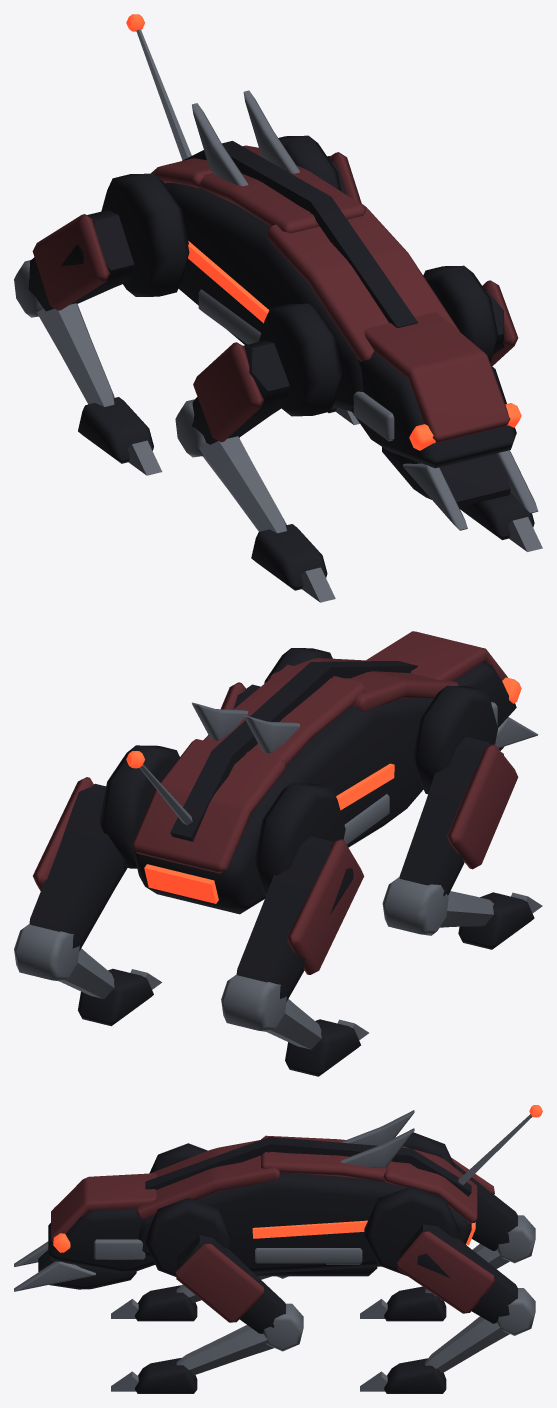
Rendered from enemy_runner.glb.
The picture shows the model from 3 angles, top to bottom: view 1: azimuth 30°, elevation 25°; view 2: azimuth 150°, elevation 25°; view 3: azimuth 270°, elevation 25°; orthographic projection. The views are drawn at different scales.
Visible parts, largest first — view 1: body, head, leg_hr_upper, leg_fr_upper, jaw, leg_fr_toe, leg_hr_toe, leg_fr_lower, leg_hr_lower, leg_fl_toe, leg_fl_upper, leg_hl_upper; view 2: body, leg_hr_upper, leg_fr_upper, leg_hl_upper, head, leg_hl_toe, leg_hr_toe, leg_fr_toe, leg_fr_lower, leg_hl_lower, leg_hr_lower, jaw (+1 smaller); view 3: body, head, leg_hl_upper, leg_fl_upper, leg_hr_upper, jaw, leg_fl_lower, leg_fr_toe, leg_hr_toe, leg_fl_toe, leg_hl_toe, leg_hl_lower (+1 smaller).
Boxes of the visible parts, x1,y1,x2,y2 form: body: [101, 14, 497, 416]; head: [351, 312, 521, 468]; leg_hr_upper: [14, 210, 134, 317]; leg_fr_upper: [175, 340, 289, 457]; jaw: [382, 447, 538, 530]; leg_fr_toe: [251, 524, 335, 602]; leg_hr_toe: [78, 397, 162, 475]; leg_fr_lower: [199, 436, 286, 533]; leg_hr_lower: [37, 303, 114, 406]; leg_fl_toe: [459, 492, 542, 551]; leg_fl_upper: [482, 280, 518, 366]; leg_hl_upper: [327, 152, 361, 203]; body: [99, 648, 497, 914]; leg_hr_upper: [221, 836, 364, 1032]; leg_fr_upper: [382, 736, 518, 935]; leg_hl_upper: [14, 777, 127, 981]; head: [365, 631, 521, 727]; leg_hl_toe: [78, 968, 161, 1026]; leg_hr_toe: [285, 1019, 368, 1076]; leg_fr_toe: [458, 892, 542, 949]; leg_fr_lower: [440, 891, 493, 927]; leg_hl_lower: [59, 948, 114, 998]; leg_hr_lower: [267, 999, 321, 1049]; jaw: [495, 717, 538, 750]; body: [136, 1105, 542, 1276]; head: [48, 1173, 156, 1272]; leg_hl_upper: [397, 1224, 535, 1335]; leg_fl_upper: [176, 1235, 303, 1351]; leg_hr_upper: [451, 1157, 535, 1263]; jaw: [14, 1241, 136, 1291]; leg_fl_lower: [176, 1325, 273, 1375]; leg_fr_toe: [111, 1285, 197, 1321]; leg_hr_toe: [360, 1286, 446, 1321]; leg_fl_toe: [111, 1357, 197, 1393]; leg_hl_toe: [360, 1358, 446, 1393]; leg_hl_lower: [425, 1316, 509, 1373].
Size of the model in its own units: 0.5344 by 0.636 by 1.23.
